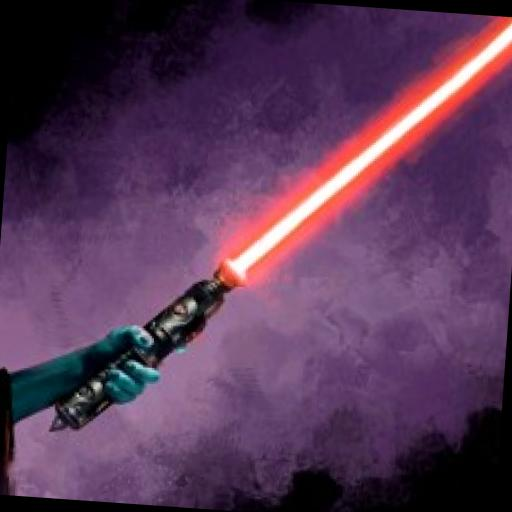sith saber: (51, 0, 512, 462)
